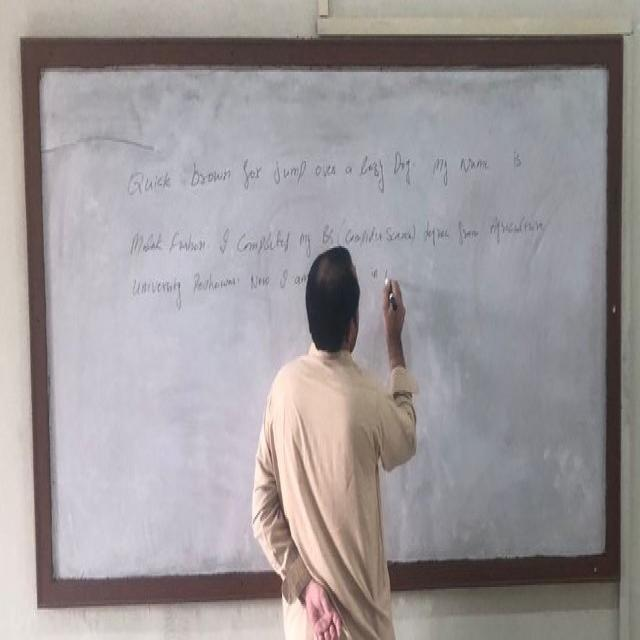Instructor: (276, 219, 403, 632)
White-board: (30, 50, 615, 598)
